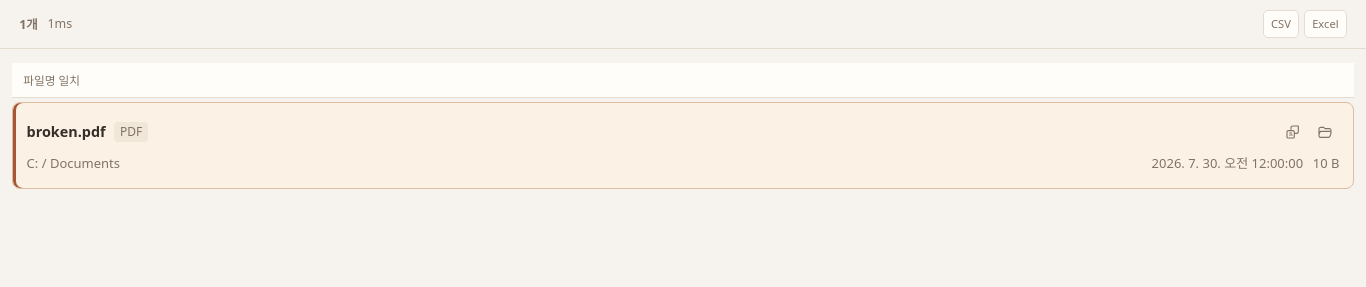
SearchResults › reports double-click open failures through the same guarded path
This screenshot has width=1366, height=287.
Double-click the option at [66, 132], box [12,102,1354,189]
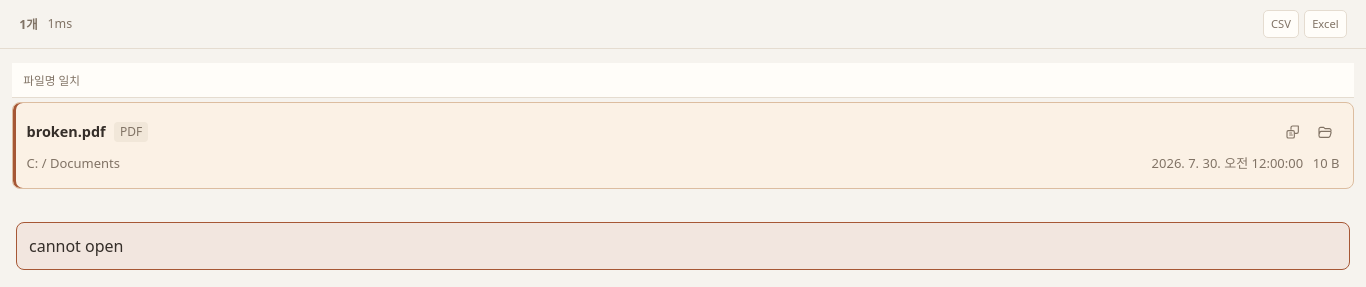
Expected: the message reads "cannot open", [29,235,124,257]
